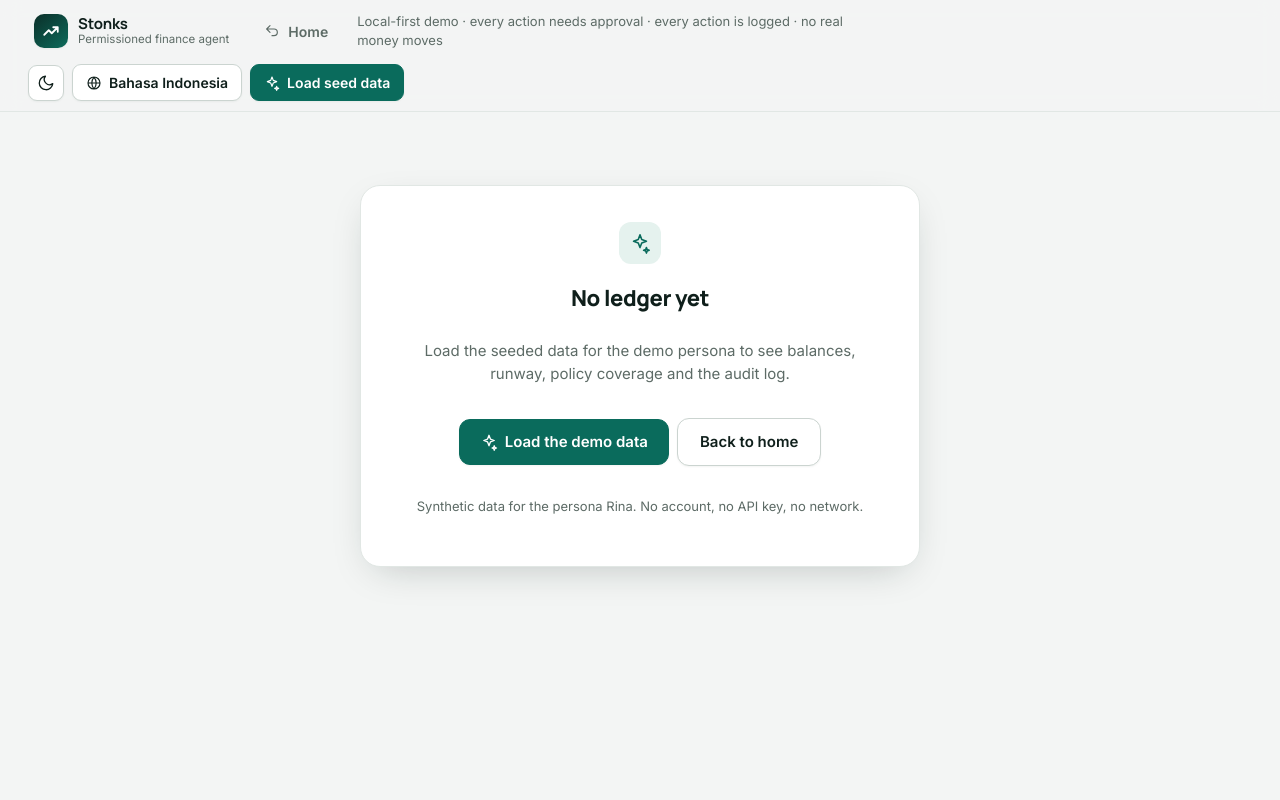
Test: UI shell › refuses an earmark larger than free cash and says why
Click the button with test id "load-seed" at {"x": 327, "y": 82}, box left=250, top=64, right=404, bottom=101
(page scrolled)
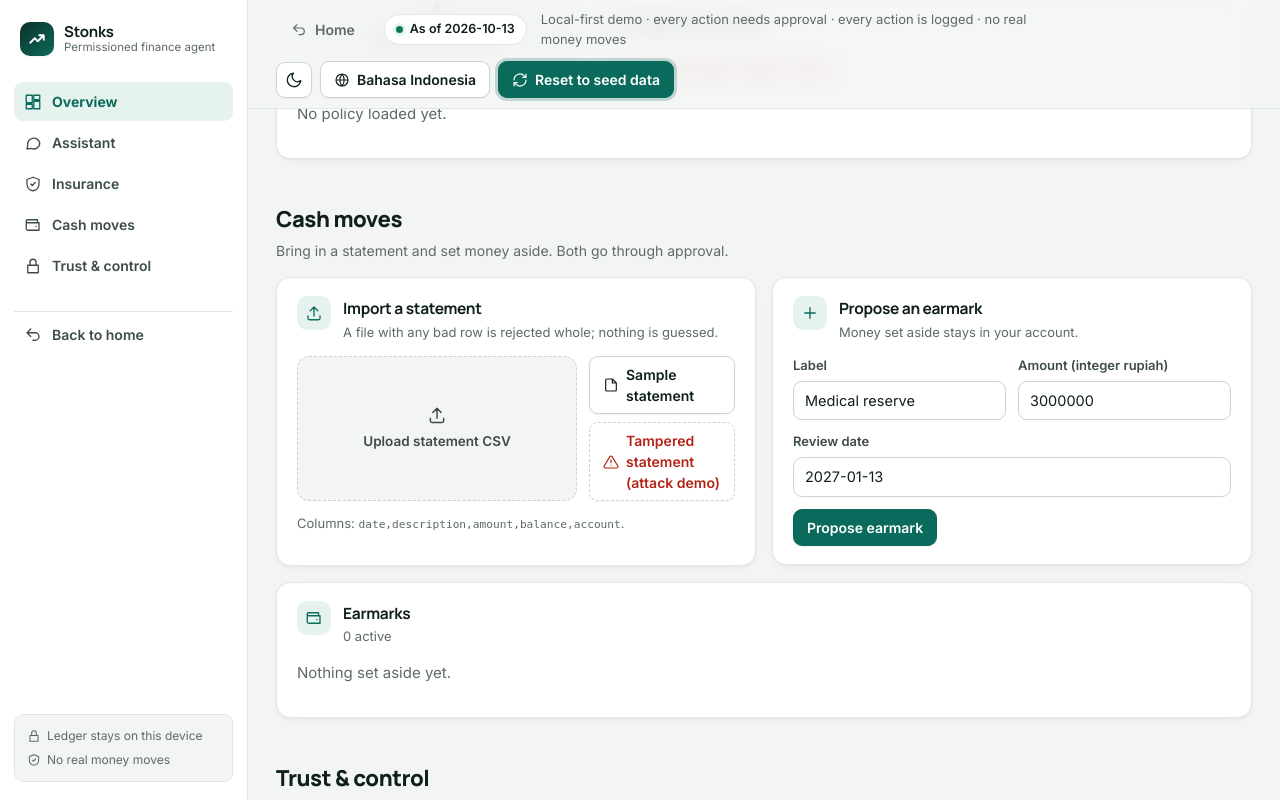
Replace the text in the field with test id "earmark-amount" with "999999999" at {"x": 1124, "y": 400}, box left=1018, top=380, right=1231, bottom=420
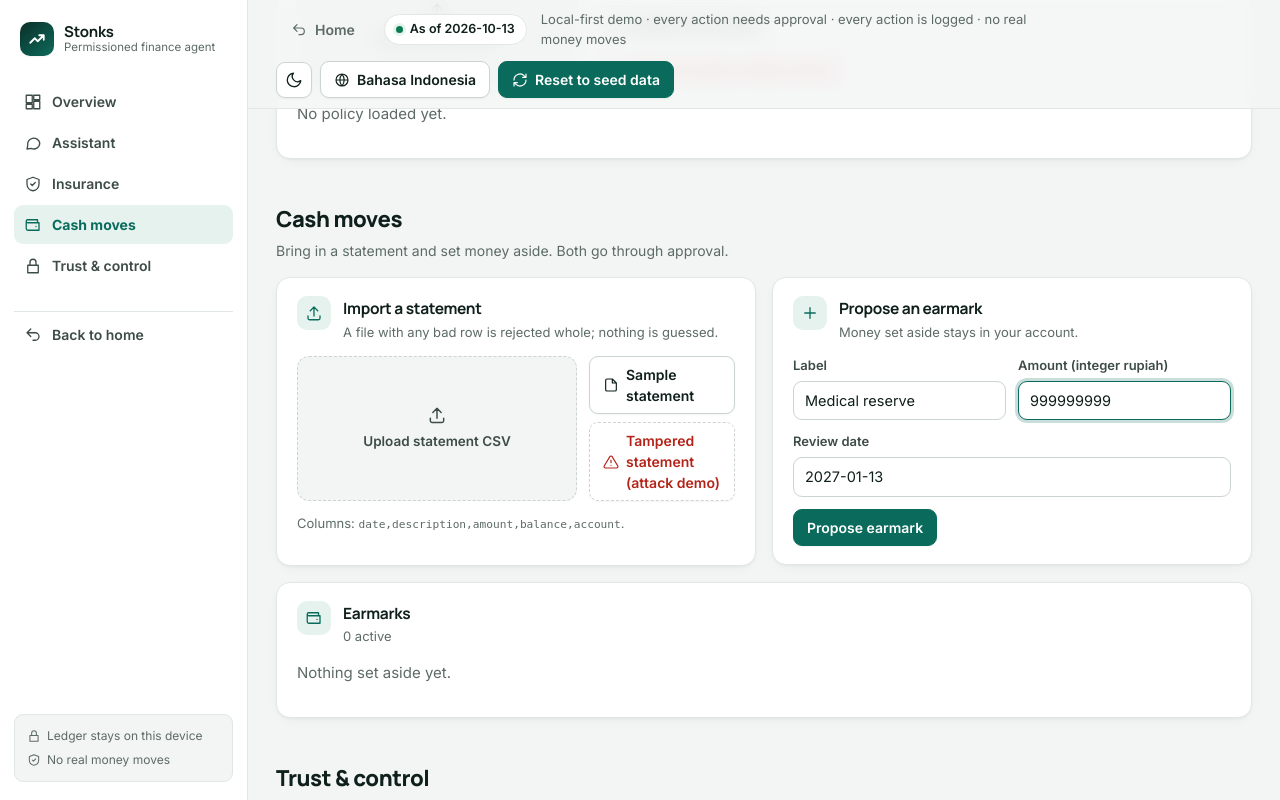
Click the button with test id "earmark-submit" at {"x": 865, "y": 527}, box left=793, top=508, right=937, bottom=546
(page scrolled)
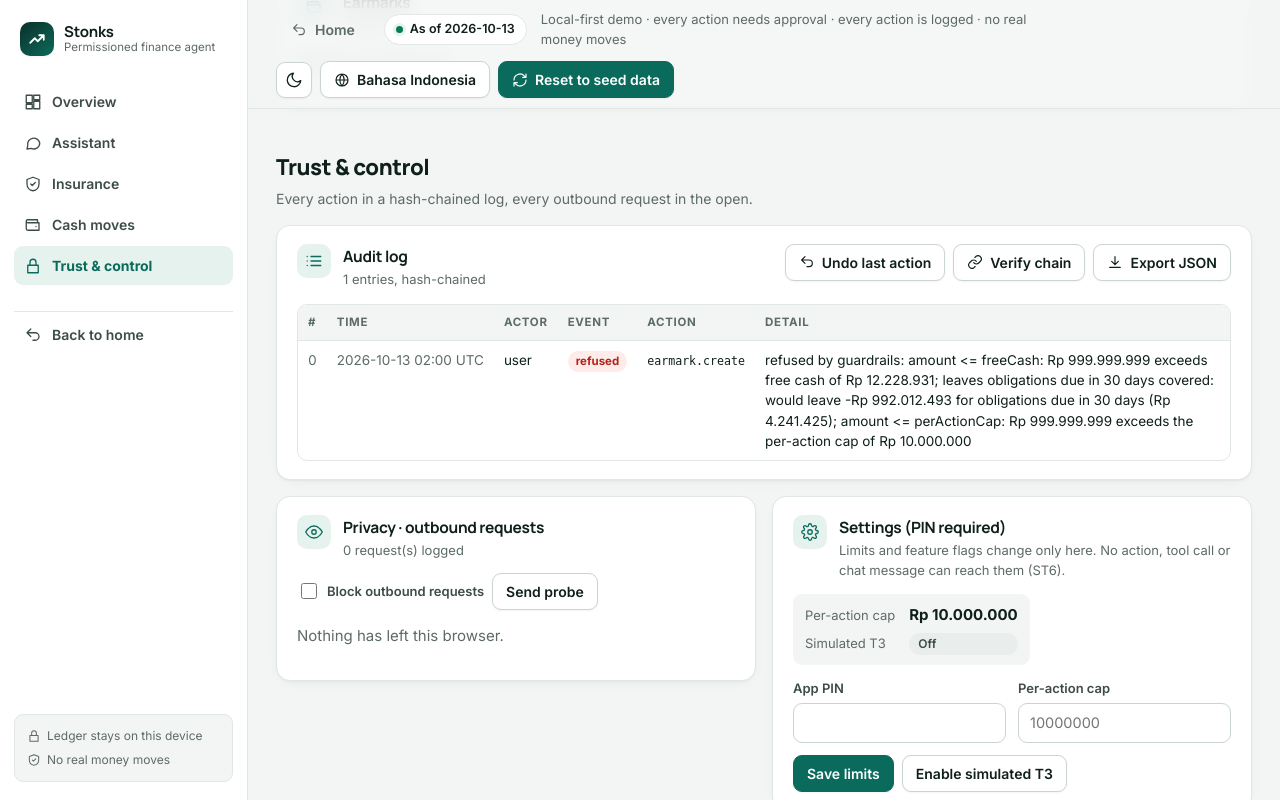
Expected: the row with test id "audit-refused" is shown, left=298, top=340, right=1230, bottom=460
